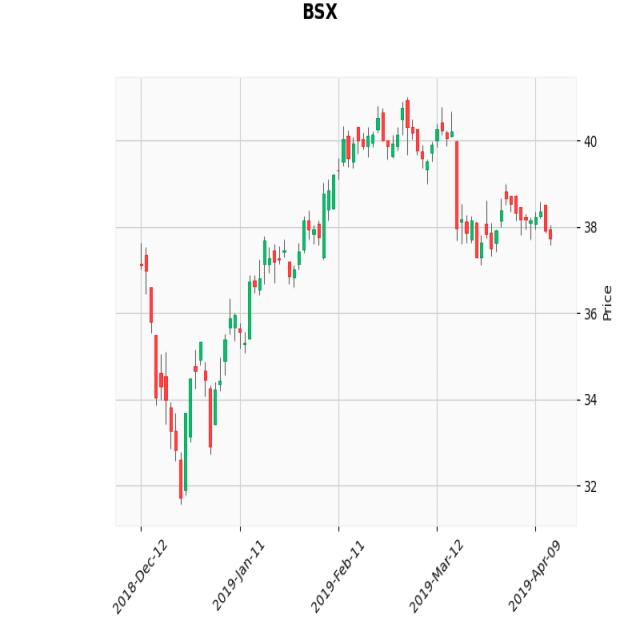Double-Bottom: (150, 328, 238, 503)
